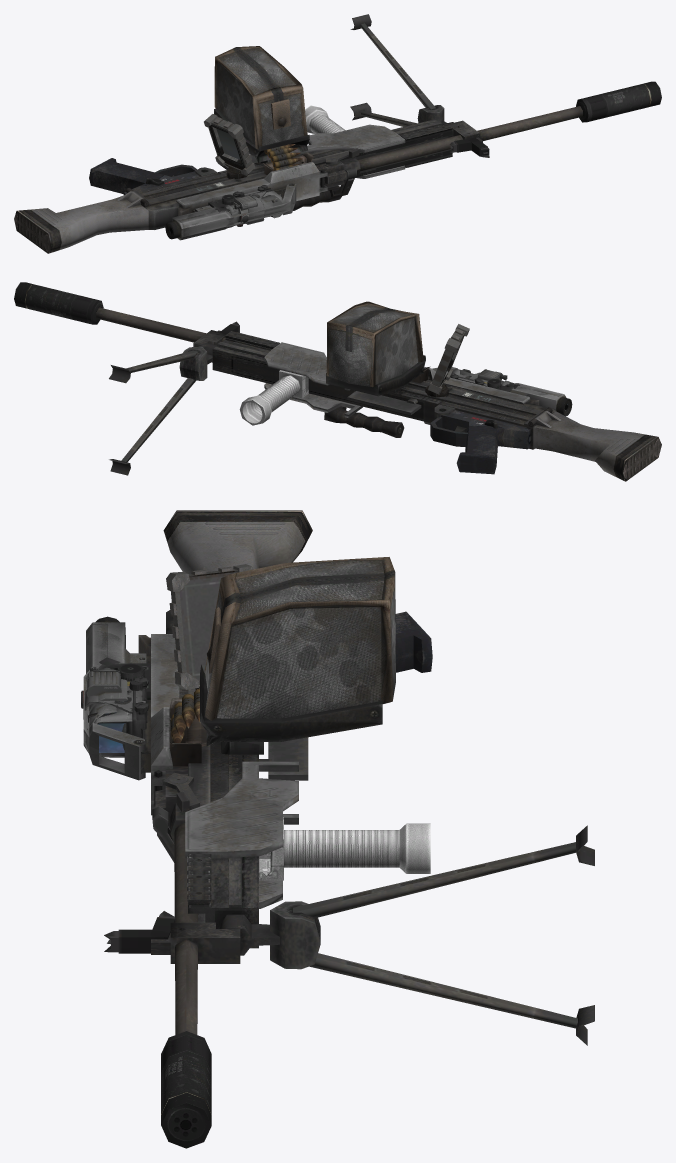
The model's file is weapon_mg4_red_tiger_LOD0.obj.
3 views of the same model, one above another, from view 1: azimuth 30°, elevation 25°; view 2: azimuth 150°, elevation 25°; view 3: azimuth 270°, elevation 25° (orthographic). The views are drawn at different scales.
Parts seen in each view (by area): view 1: mtl_weapon_mg4_red_tiger, mtl_weapon_mg4_scope, mtl_weapon_suppressor_b, mtl_weapon_motion_tracker_red_tiger, mtl_weapon_scar_h_foregrip, mtl_weapon_mg4_iron_sight_on, mtl_weapon_thermal_sight_2, mtl_weapon_acog_2_red_tiger, mtl_weapon_eotech_2_red_tiger; view 2: mtl_weapon_mg4_red_tiger, mtl_weapon_suppressor_b, mtl_weapon_scar_h_foregrip, mtl_weapon_motion_tracker_red_tiger, mtl_weapon_mg4_scope, mtl_weapon_mg4_iron_sight_on, mtl_weapon_thermal_sight_2; view 3: mtl_weapon_mg4_red_tiger, mtl_weapon_scar_h_foregrip, mtl_weapon_suppressor_b, mtl_weapon_motion_tracker_red_tiger, mtl_weapon_mg4_scope, mtl_weapon_mg4_iron_sight_on, mtl_weapon_thermal_sight_2, mtl_weapon_red_dot_sight_red_tiger.
Boxes of the visible parts, x1,y1,x2,y2 form: mtl_weapon_mg4_red_tiger: (14, 14, 582, 253); mtl_weapon_mg4_scope: (165, 183, 296, 240); mtl_weapon_suppressor_b: (576, 81, 661, 122); mtl_weapon_motion_tracker_red_tiger: (204, 114, 255, 179); mtl_weapon_scar_h_foregrip: (305, 105, 345, 133); mtl_weapon_mg4_iron_sight_on: (208, 138, 489, 228); mtl_weapon_thermal_sight_2: (215, 192, 283, 225); mtl_weapon_acog_2_red_tiger: (225, 186, 281, 226); mtl_weapon_eotech_2_red_tiger: (235, 191, 265, 224); mtl_weapon_mg4_red_tiger: (96, 301, 661, 481); mtl_weapon_suppressor_b: (14, 282, 103, 324); mtl_weapon_scar_h_foregrip: (239, 370, 308, 425); mtl_weapon_motion_tracker_red_tiger: (425, 324, 469, 397); mtl_weapon_mg4_scope: (432, 367, 572, 416); mtl_weapon_mg4_iron_sight_on: (220, 321, 515, 391); mtl_weapon_thermal_sight_2: (462, 369, 519, 388); mtl_weapon_mg4_red_tiger: (138, 510, 594, 1045); mtl_weapon_scar_h_foregrip: (259, 817, 430, 880); mtl_weapon_suppressor_b: (161, 1031, 211, 1148); mtl_weapon_motion_tracker_red_tiger: (166, 564, 254, 689); mtl_weapon_mg4_scope: (83, 616, 146, 780); mtl_weapon_mg4_iron_sight_on: (97, 663, 164, 953); mtl_weapon_thermal_sight_2: (86, 657, 142, 729); mtl_weapon_red_dot_sight_red_tiger: (95, 677, 147, 757).
Bounding box in the file's own units: 126 × 29.43 × 46.13.
